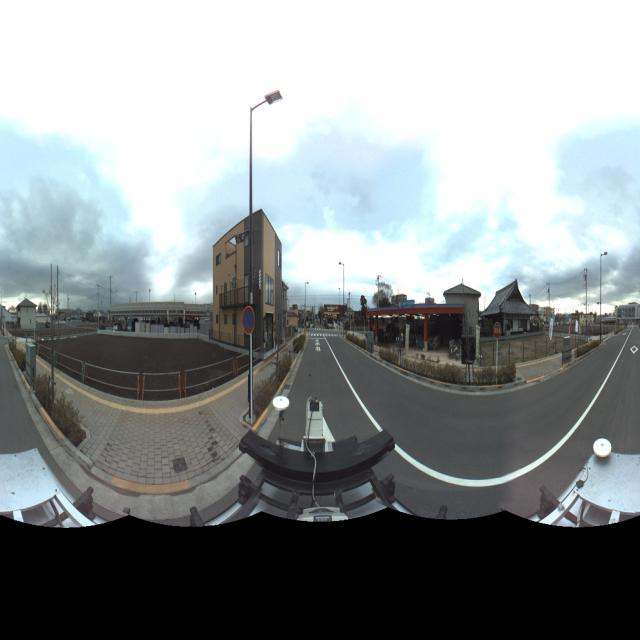b_1: (208, 209, 284, 351), (479, 275, 542, 339), (281, 280, 291, 338)
